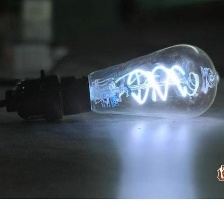light_bulb: (57, 40, 223, 127)
